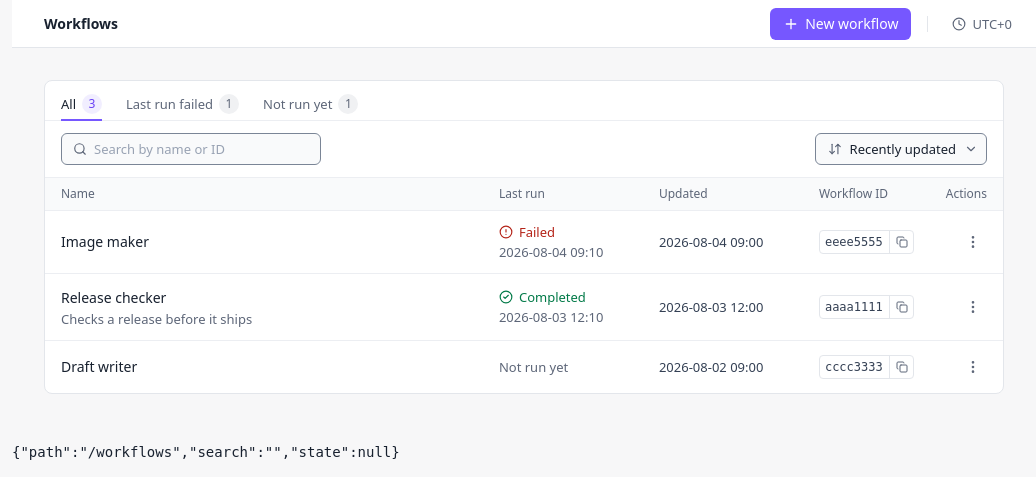
Test: WorkflowsPage tabs, search and sort › shows the failure reason of the last run when it is known
Hover over the link with aria-label "Last run failed" at (551, 242), box [499,222,603,260]
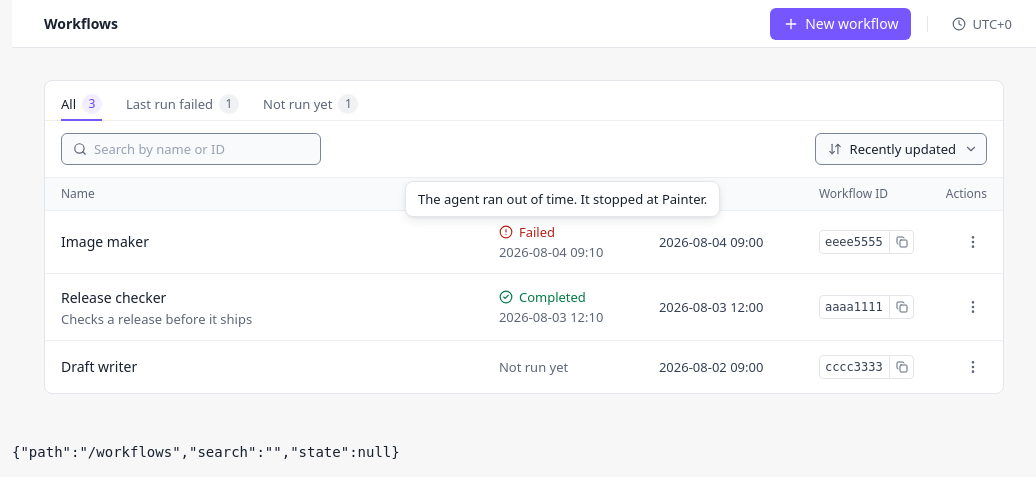
Expected: the tooltip "The agent ran out of time. It stopped at Painter." is shown, [405,181,720,217]
